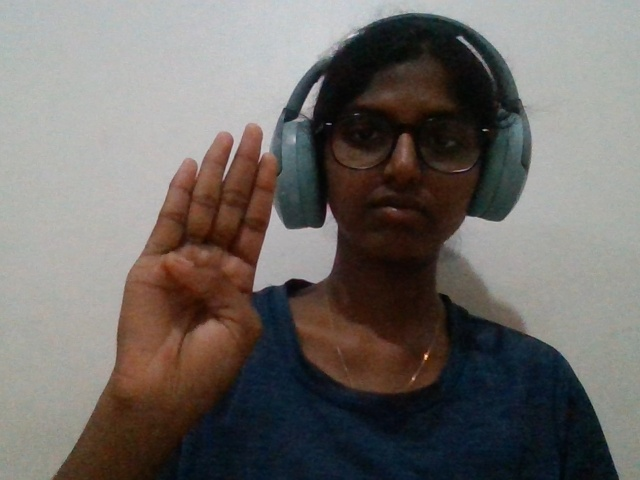B: (94, 119, 306, 449)
